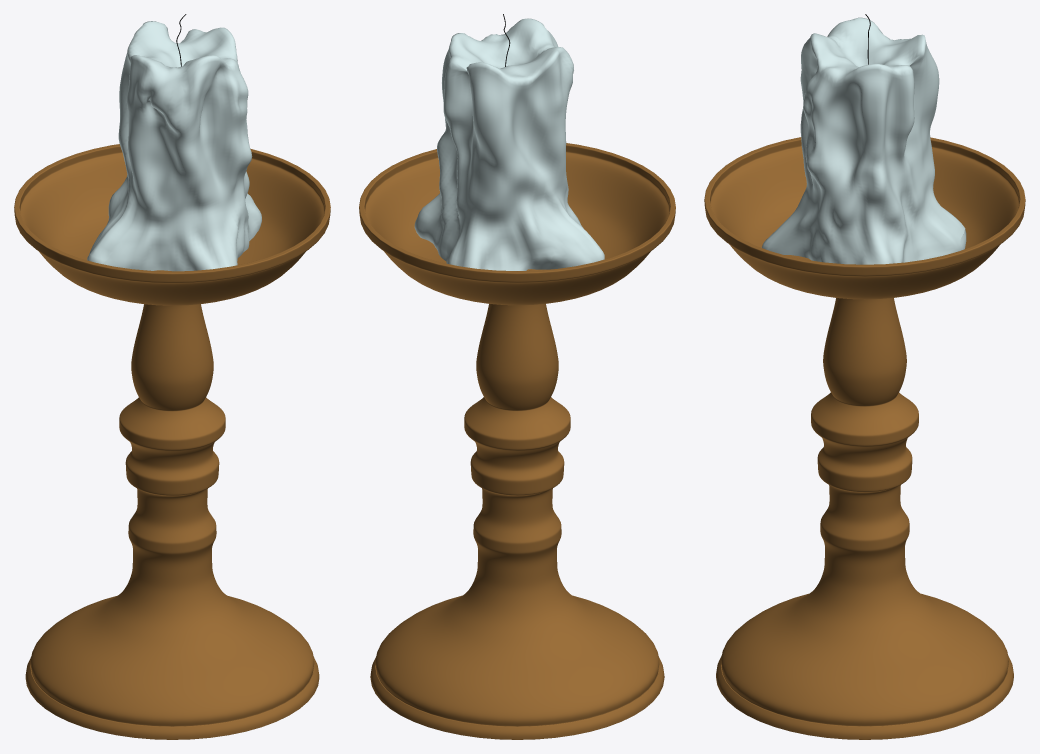
Rendered from candle+holder.fbx.
The picture shows the model from 3 angles, left to right: view 1: azimuth 30°, elevation 25°; view 2: azimuth 150°, elevation 25°; view 3: azimuth 270°, elevation 25°; orthographic projection.
Visible parts, largest first — view 1: candleholder, candle.001; view 2: candleholder, candle.001; view 3: candleholder, candle.001.
Boxes of the visible parts, x1,y1,x2,y2 form: candleholder: (14, 144, 330, 739); candle.001: (87, 21, 261, 271); candleholder: (359, 143, 675, 739); candle.001: (414, 18, 604, 270); candleholder: (704, 137, 1025, 739); candle.001: (761, 17, 966, 264).
Size of the model in its own units: 21.13 by 48.62 by 21.13.
